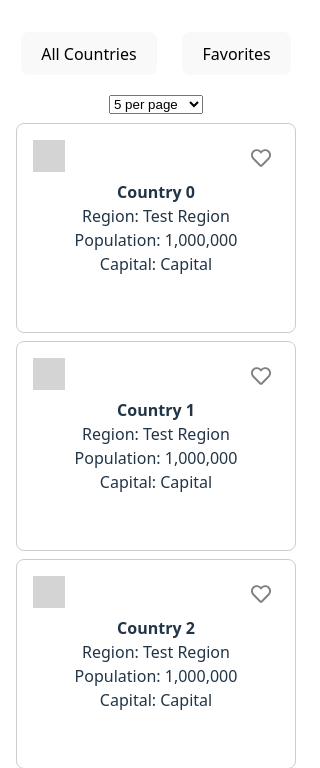
CountryList › Enhanced Pagination › changes items per page when selector is used
Expected: the text "Country 0" is shown, x1=117 y1=181 x2=195 y2=203
Change items per page to 10
Select "10 per page" in the dropdown named "items per page" at (156, 105), box x1=109 y1=95 x2=203 y2=114
(page scrolled)
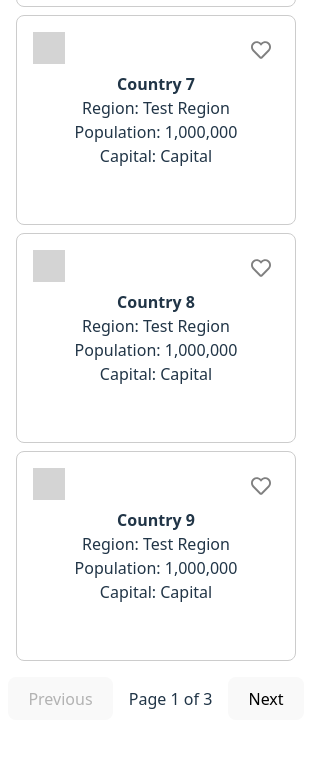
Expected: the text "Country 9" is shown, x1=117 y1=509 x2=195 y2=531
Expected: the text "Page 1 of 3" is shown, x1=129 y1=687 x2=212 y2=711
